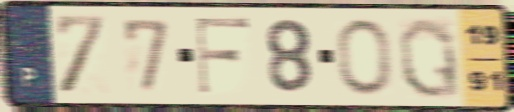7: (53, 13, 109, 97), (119, 16, 171, 95)
8: (263, 17, 316, 96)
F: (193, 15, 253, 97)
O: (333, 16, 395, 99)
Q: (395, 15, 463, 102)
